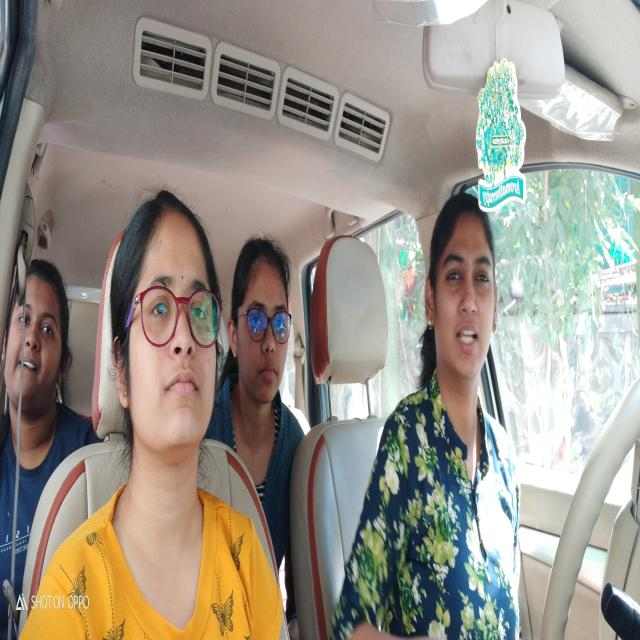person: (110, 193, 223, 449), (422, 190, 498, 393), (226, 236, 299, 410), (4, 259, 75, 410)
